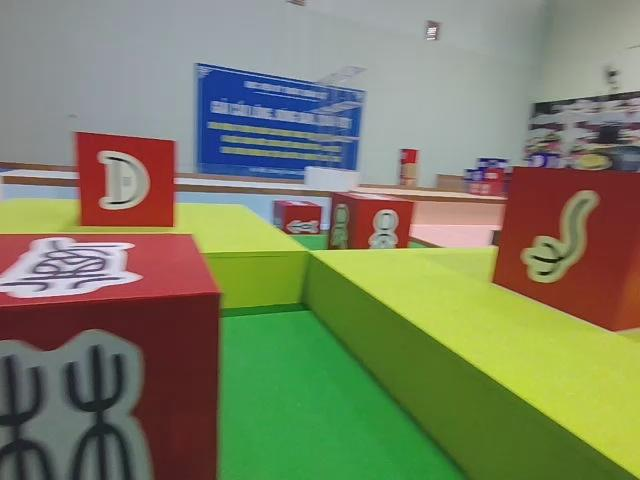R2 Fake: (0, 234, 221, 480)
R2 Real: (490, 162, 638, 333), (74, 130, 174, 229), (328, 192, 411, 256)
